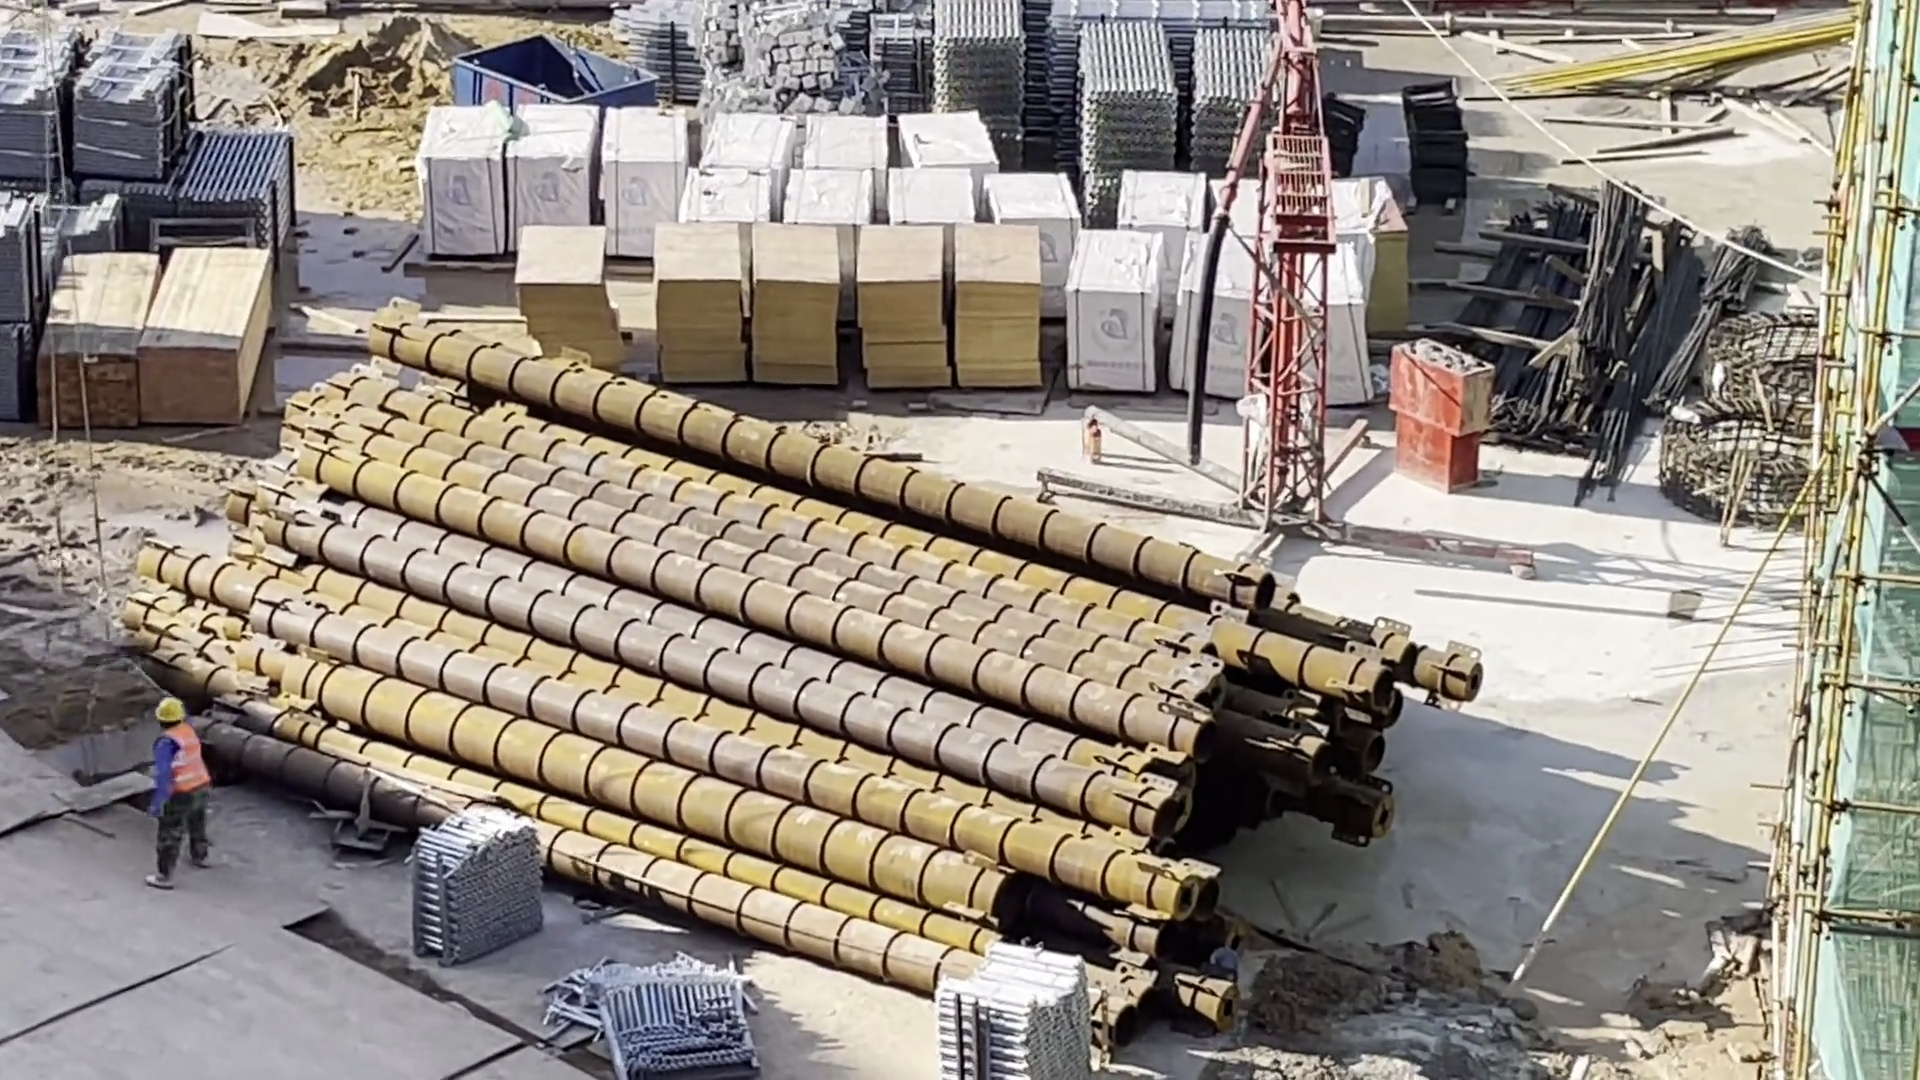board: (947, 211, 1052, 395), (507, 220, 633, 370), (645, 219, 750, 389), (853, 216, 955, 393), (744, 213, 843, 393)
helmet: (156, 691, 185, 726)
hopper: (443, 23, 662, 112)
person: (136, 695, 223, 893)
scaffold: (399, 790, 553, 972), (933, 927, 1102, 1080), (1077, 11, 1187, 228), (926, 5, 1036, 174), (182, 118, 310, 255), (1193, 16, 1287, 182)
vest: (148, 720, 215, 794)
